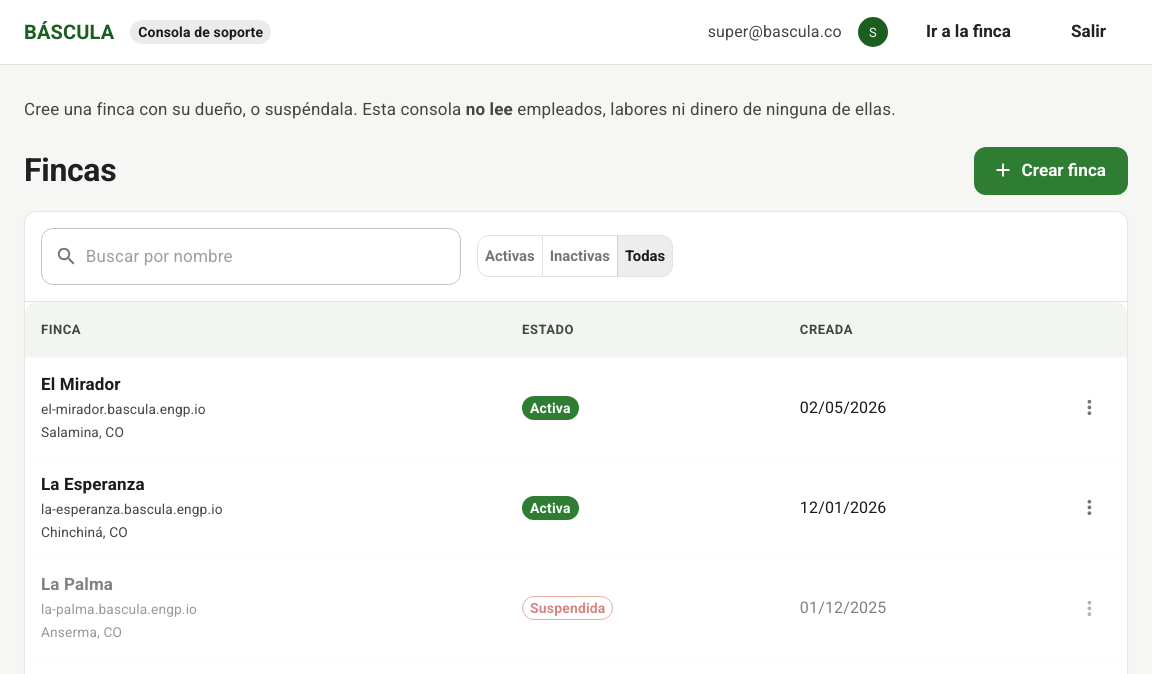
Test: the farm list › filters active and suspended farms
The width and height of the screenshot is (1152, 674).
Check: the text "La Palma" is shown, box top-left (41, 574), bottom-right (113, 594)
Click the button "Inactivas" at coordinates (580, 256), box top-left (542, 235), bottom-right (618, 277)
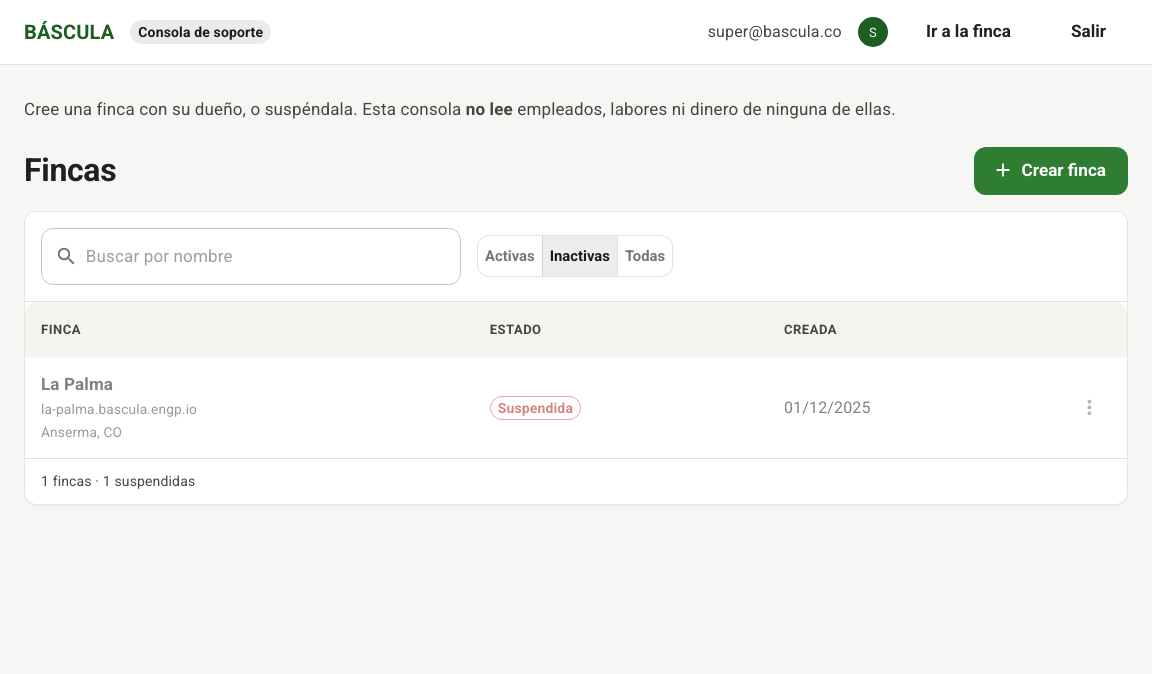
Check: the text "La Palma" is shown, box top-left (41, 374), bottom-right (113, 394)
Check: the text "La Esperanza" is gone
Click the button "Activas" at coordinates (510, 256), box top-left (477, 235), bottom-right (543, 277)
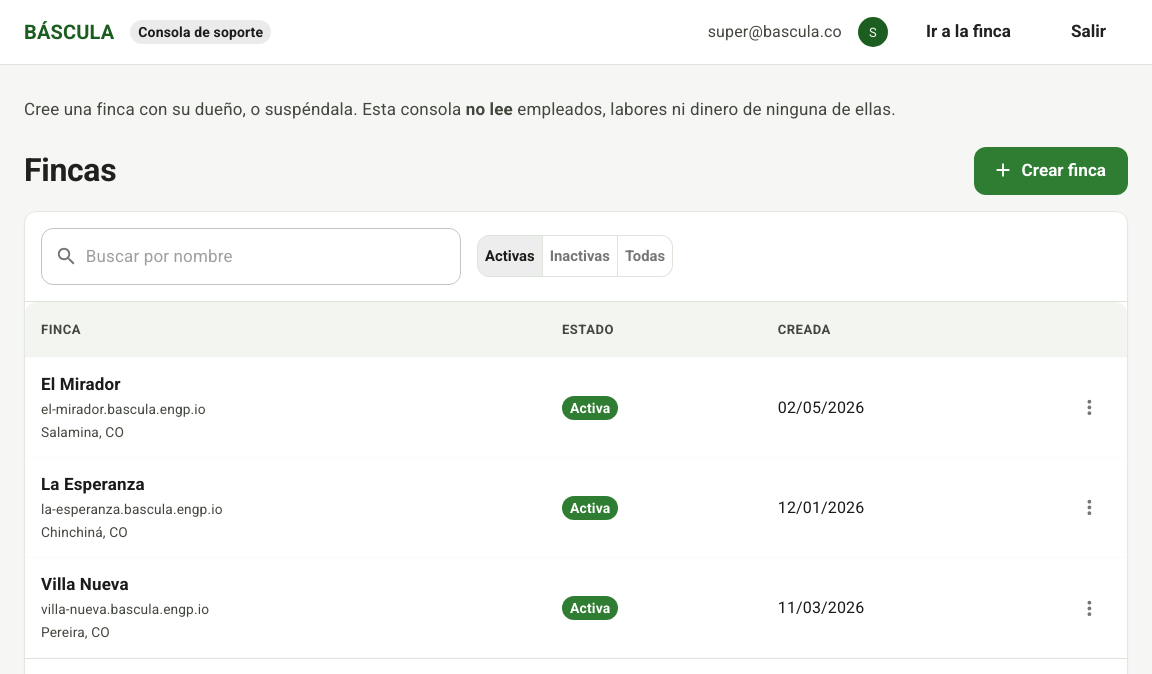
Check: the text "La Esperanza" is shown, box top-left (41, 474), bottom-right (145, 494)
Check: the text "La Palma" is gone
